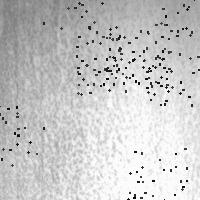pitted_surface: (1, 1, 197, 197), (104, 24, 164, 82), (76, 33, 132, 93), (116, 31, 170, 90), (127, 148, 186, 200), (146, 51, 200, 104), (0, 105, 43, 164), (43, 0, 101, 31), (160, 0, 200, 39)
